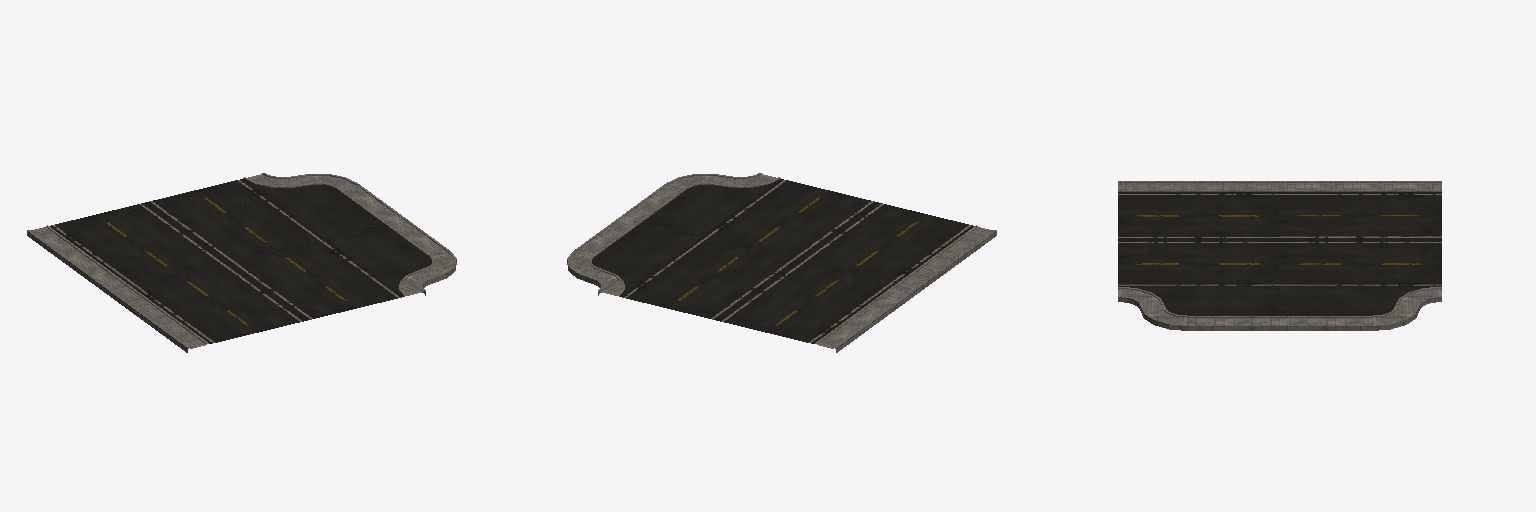
3 views of the same model, side by side, from view 1: azimuth 30°, elevation 25°; view 2: azimuth 150°, elevation 25°; view 3: azimuth 270°, elevation 25° (orthographic).
Visible parts, largest first — view 1: 7_Road-Parking-Double; view 2: 7_Road-Parking-Double; view 3: 7_Road-Parking-Double.
Boxes of the visible parts, box(x1,y1,x2,y2) form: 7_Road-Parking-Double: box(27, 173, 456, 352); 7_Road-Parking-Double: box(567, 173, 996, 352); 7_Road-Parking-Double: box(1118, 181, 1441, 330).
Bounding box in the file's own units: 1.31 × 0.0219 × 1.24.
1 materials, 1 textured.